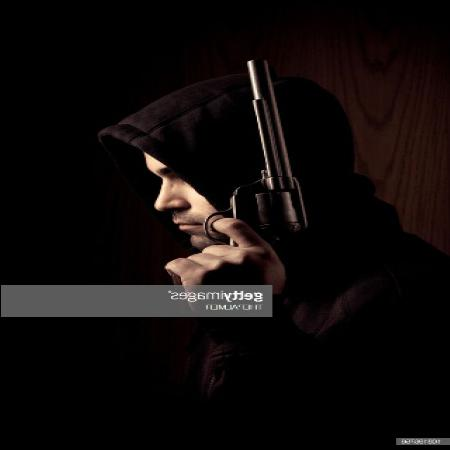Pistol: (172, 48, 304, 283)
